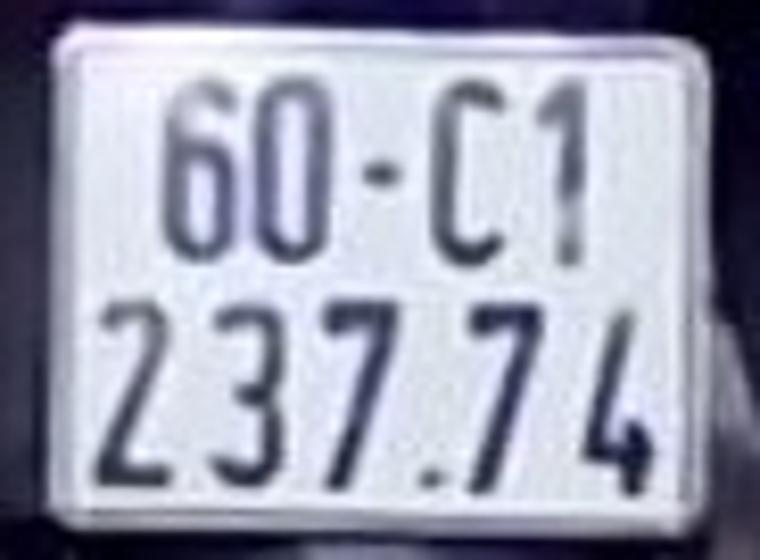-: (357, 157, 403, 189)
.: (413, 462, 442, 492)
0: (251, 69, 334, 263)
1: (530, 77, 590, 276)
2: (89, 291, 175, 487)
3: (203, 296, 290, 488)
4: (574, 307, 659, 501)
6: (154, 67, 241, 262)
7: (312, 288, 406, 492), (459, 297, 550, 500)
C: (426, 75, 512, 270)
